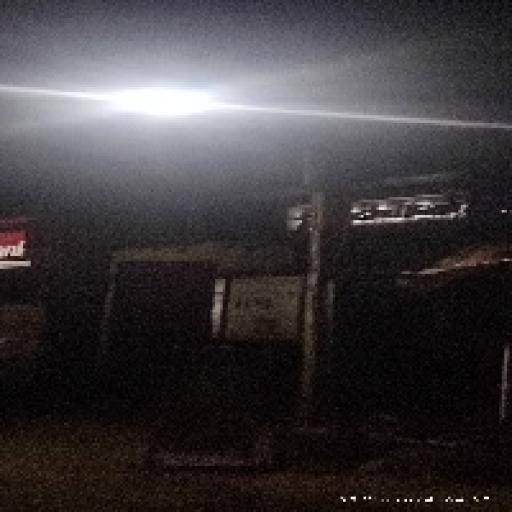Working: (94, 78, 226, 134)
